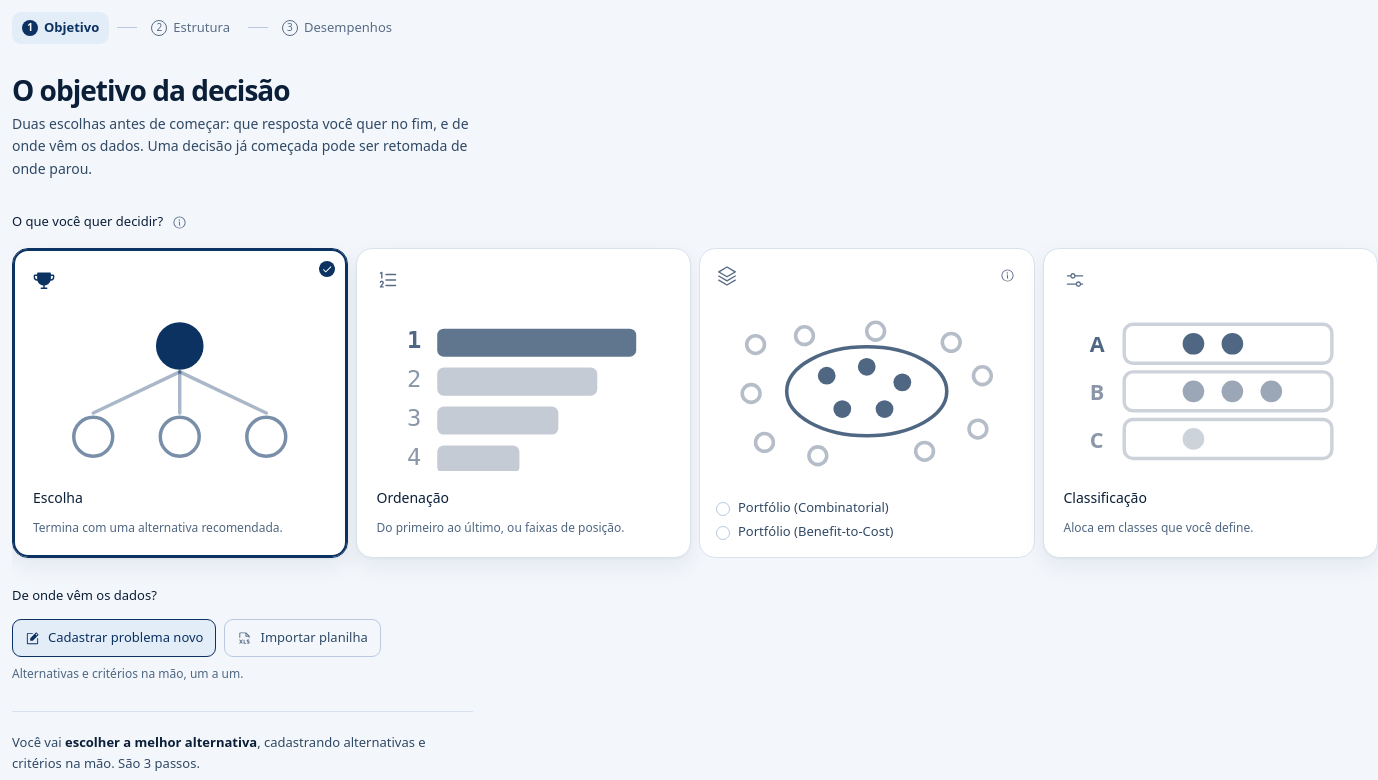
Test: a sequência do cadastro › o primeiro passo resume a escolha antes de pedir para continuar
Expected: the text "escolher a melhor alternativa" is shown, x1=65 y1=733 x2=257 y2=751
Expected: the text "cadastrando alternativas e critérios na mão" is shown, x1=12 y1=733 x2=426 y2=772
Click the radio button labelled "A B C Classificação Aloca em classes que você define.".
click(1210, 403)  # box x1=1042 y1=248 x2=1377 y2=558
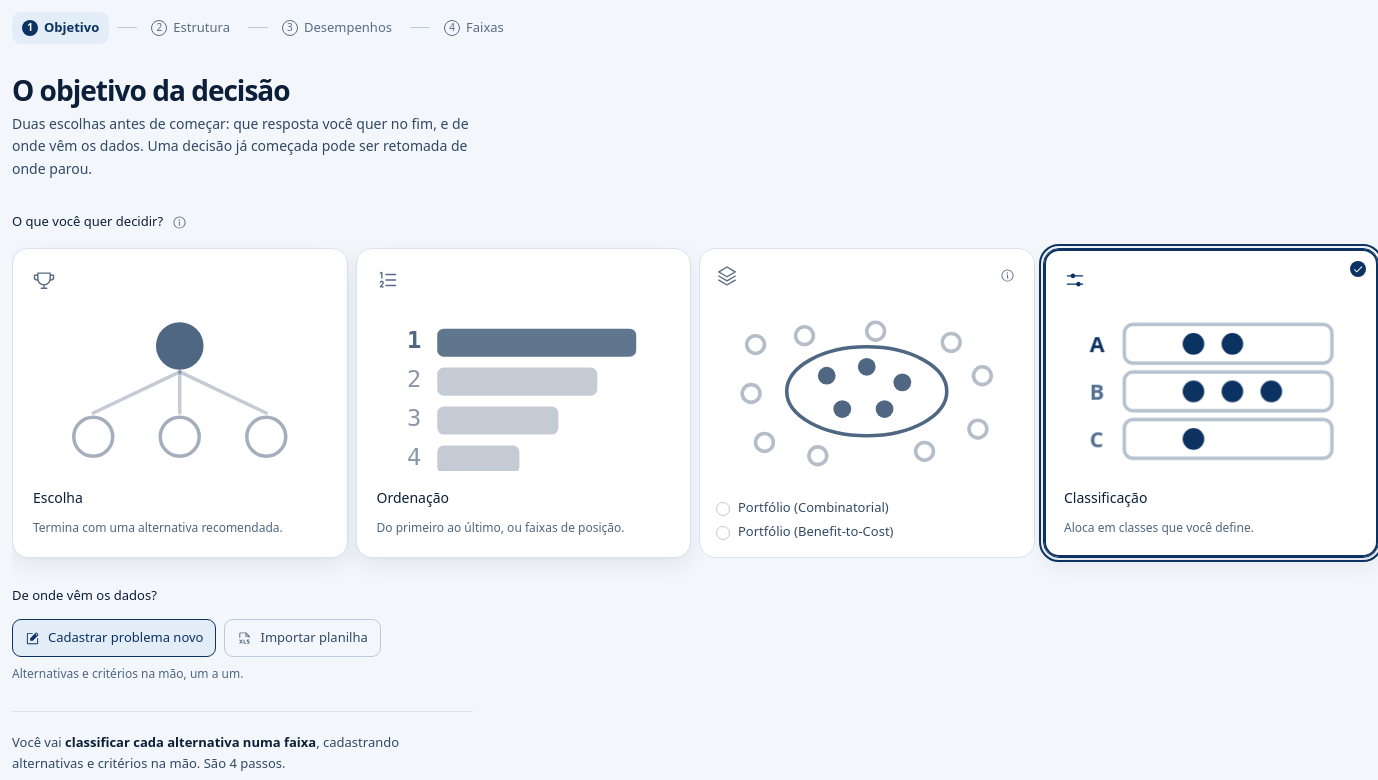
Expected: the text "classificar cada alternativa numa faixa" is shown, x1=65 y1=733 x2=316 y2=751
